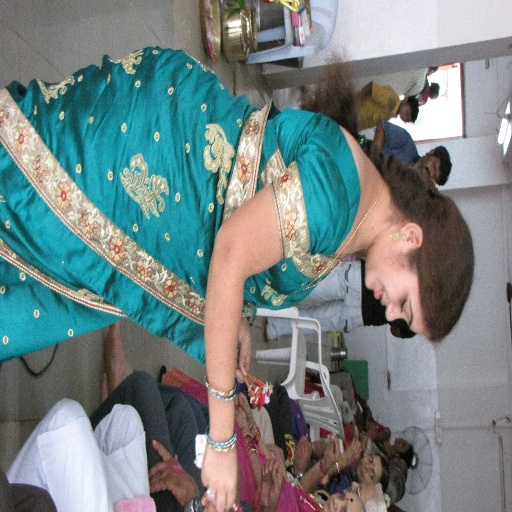hand: (148, 438, 200, 510), (198, 433, 240, 497), (259, 455, 285, 511), (239, 316, 252, 386), (323, 432, 340, 472), (343, 434, 362, 468), (294, 440, 312, 475), (234, 402, 251, 438), (235, 392, 252, 425)
